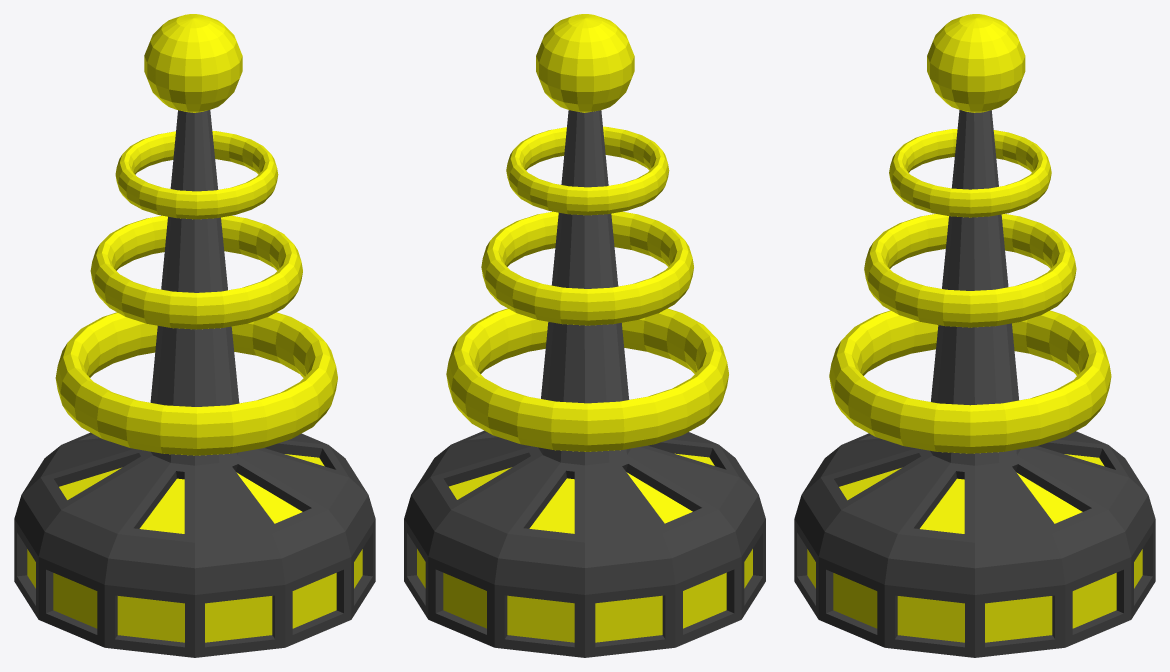
Rendered from YellowLaseer.FBX.
3 renders of one model, left to right at view 1: azimuth 30°, elevation 25°; view 2: azimuth 150°, elevation 25°; view 3: azimuth 270°, elevation 25°, orthographic.
Parts seen in each view (by area): view 1: ChamferCyl002, Torus004, Torus005, Torus006; view 2: ChamferCyl002, Torus004, Torus005, Torus006; view 3: ChamferCyl002, Torus004, Torus005, Torus006.
Boxes of the visible parts, bbox=[...] form: ChamferCyl002: bbox=[14, 14, 375, 657]; Torus004: bbox=[55, 312, 337, 455]; Torus005: bbox=[90, 215, 302, 329]; Torus006: bbox=[115, 131, 278, 219]; ChamferCyl002: bbox=[404, 14, 765, 657]; Torus004: bbox=[446, 308, 728, 451]; Torus005: bbox=[481, 211, 693, 325]; Torus006: bbox=[506, 126, 669, 215]; ChamferCyl002: bbox=[794, 14, 1155, 657]; Torus004: bbox=[829, 310, 1111, 453]; Torus005: bbox=[864, 214, 1076, 327]; Torus006: bbox=[889, 129, 1051, 217].
Size of the model in its own units: 35.09 by 60.35 by 35.09.
